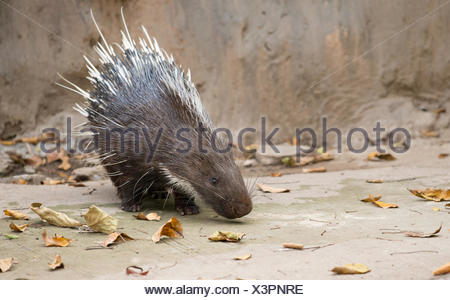porcupine: (52, 4, 264, 225)
